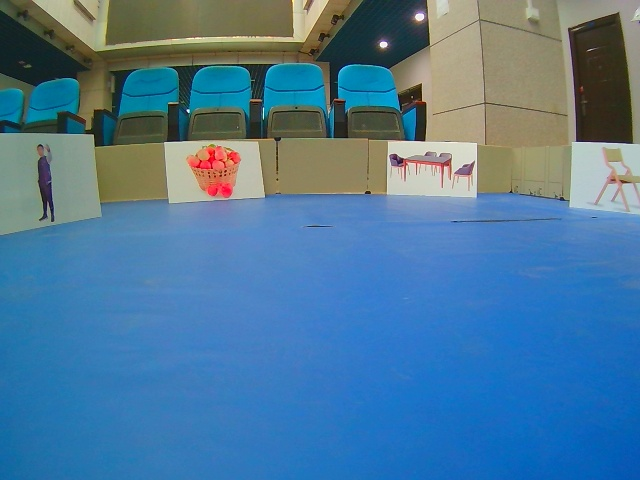food: (163, 141, 265, 205)
person: (1, 132, 102, 236)
table: (386, 140, 479, 198), (568, 141, 640, 215)
